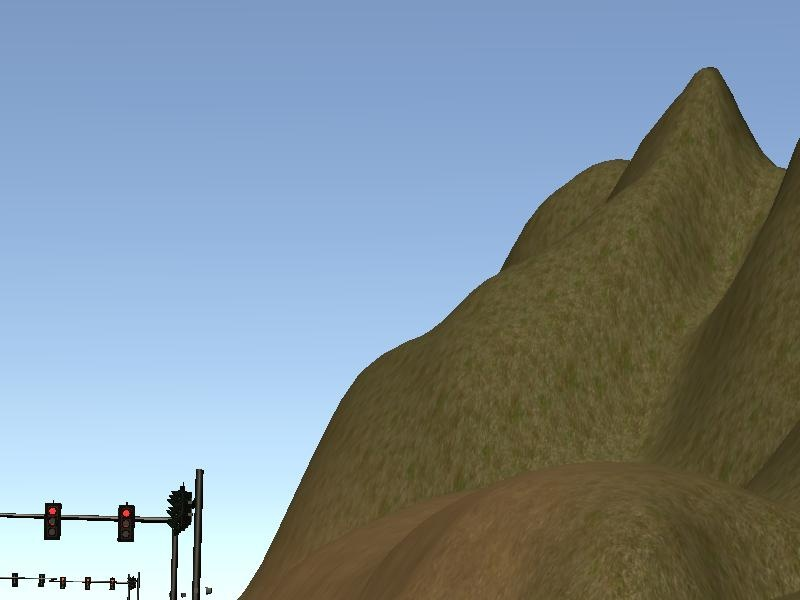red: (116, 501, 136, 539), (46, 502, 61, 539)
